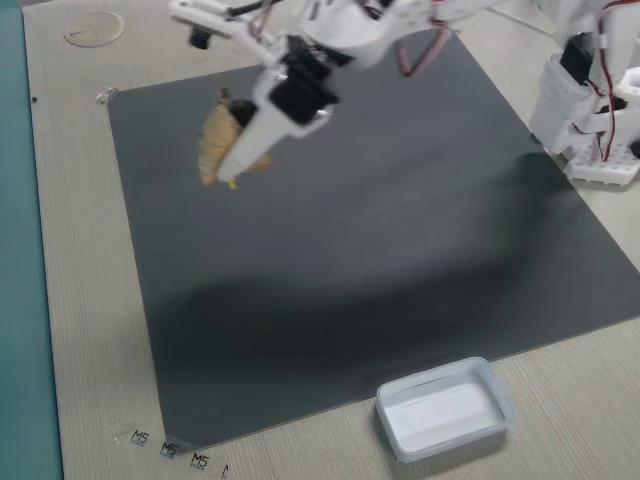gripper: (191, 20, 340, 180)
